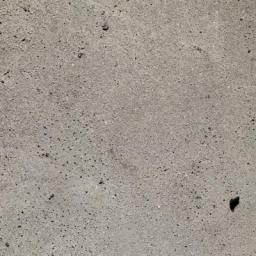FOD: (226, 192, 244, 216)
